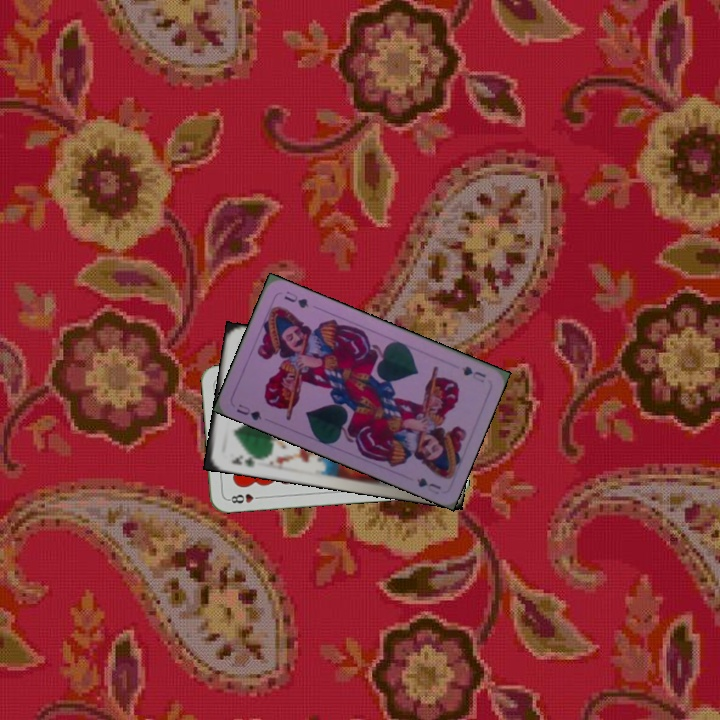GK: (227, 451, 261, 469)
GU: (232, 400, 264, 423), (457, 362, 489, 385)
H8: (224, 490, 265, 506)
